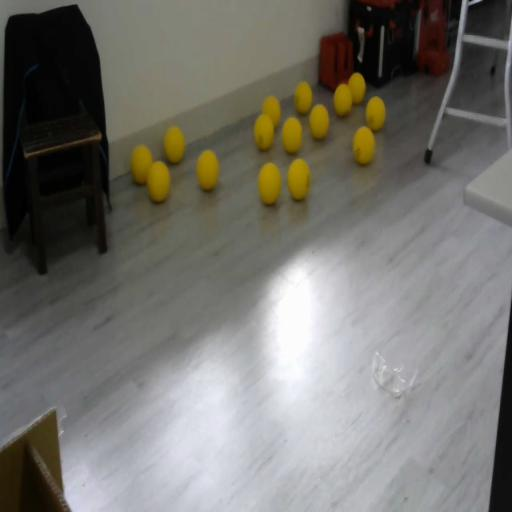FUEL: (258, 160, 282, 206), (146, 158, 170, 204), (286, 156, 310, 200), (196, 148, 220, 190), (352, 124, 376, 165), (130, 144, 152, 184), (163, 126, 186, 164), (308, 102, 330, 140), (282, 116, 303, 154), (261, 94, 282, 130), (365, 96, 386, 131), (333, 82, 353, 116), (348, 70, 366, 104), (294, 81, 312, 114)
